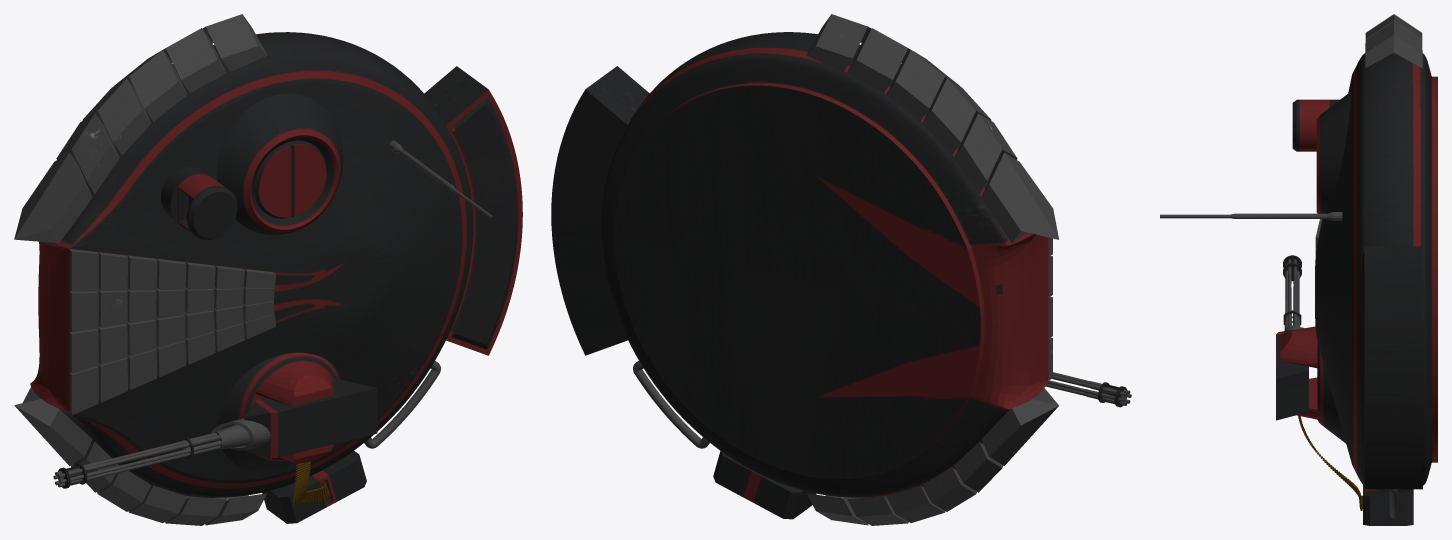
File: Turret.glb
3 renders of one model, left to right at view 1: azimuth 30°, elevation 25°; view 2: azimuth 150°, elevation 25°; view 3: azimuth 270°, elevation 25°, orthographic. The views are drawn at different scales.
Visible parts, largest first — view 1: Turret.072, Turret_metallic; view 2: Turret.072, Turret_metallic; view 3: Turret.072, Turret_metallic.
Part boxes in pixels (x1,y1,x2,y2): Turret.072: (30, 32, 522, 523); Turret_metallic: (14, 14, 492, 525); Turret.072: (551, 32, 1131, 519); Turret_metallic: (633, 14, 1131, 525); Turret.072: (1276, 53, 1437, 525); Turret_metallic: (1160, 14, 1422, 518).
Bounding box in the file's own units: 0.4457 × 0.4284 × 0.233.
Materials: 3 (2 with a texture image).
